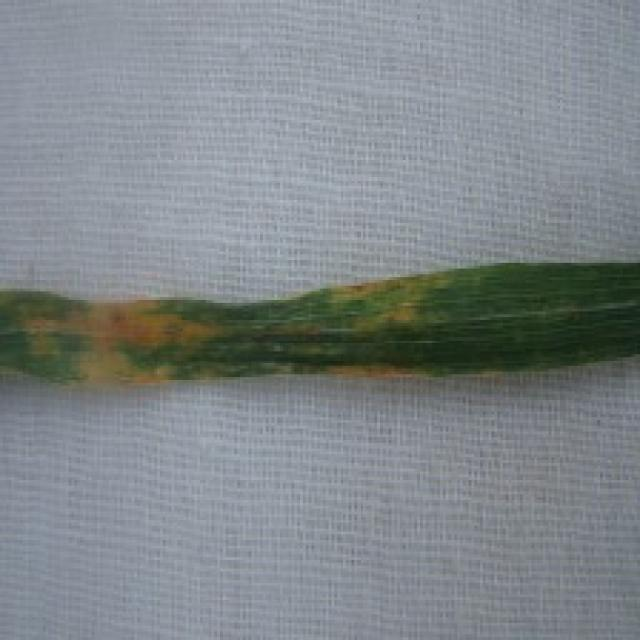Bacterial_Blight: (0, 286, 216, 354), (313, 266, 434, 337), (38, 352, 192, 396), (319, 352, 438, 388)
